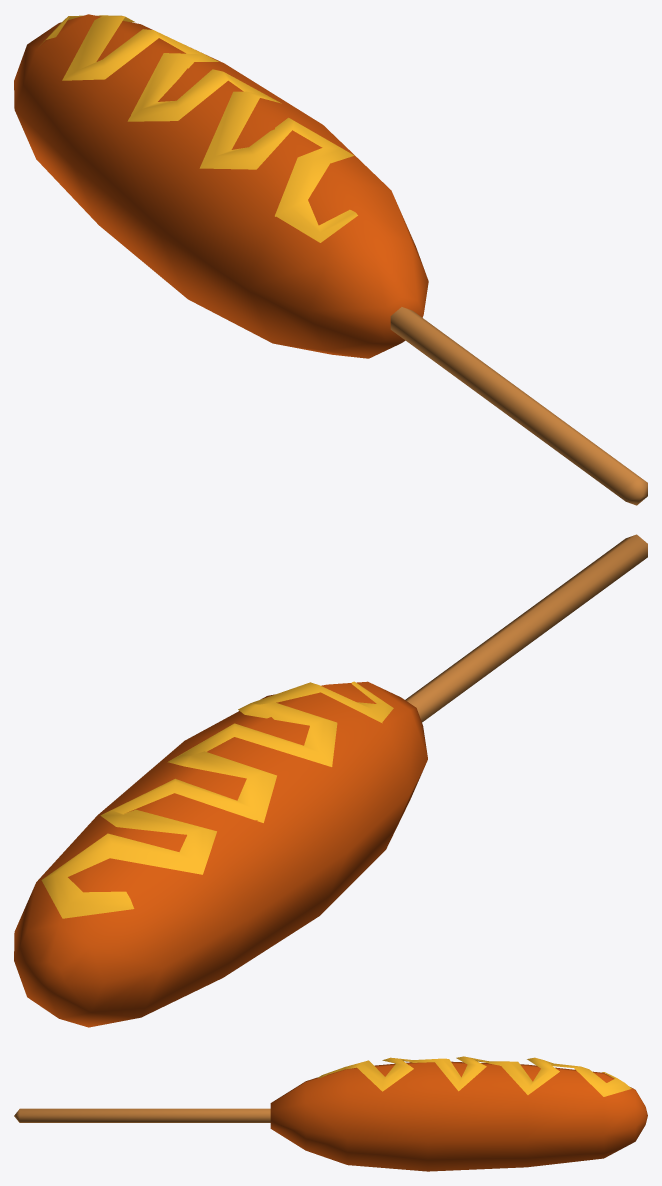
The model's file is SM_Prop_Corndog_A_01.obj.
The picture shows the model from 3 angles, top to bottom: view 1: azimuth 30°, elevation 25°; view 2: azimuth 150°, elevation 25°; view 3: azimuth 270°, elevation 25°; orthographic projection. The views are drawn at different scales.
Parts seen in each view (by area): view 1: SM_Prop_Corndog_A_01_Base-Color; view 2: SM_Prop_Corndog_A_01_Base-Color; view 3: SM_Prop_Corndog_A_01_Base-Color.
Boxes of the visible parts, x1,y1,x2,y2 form: SM_Prop_Corndog_A_01_Base-Color: [14, 14, 647, 505]; SM_Prop_Corndog_A_01_Base-Color: [14, 534, 647, 1027]; SM_Prop_Corndog_A_01_Base-Color: [14, 1056, 647, 1171].
Bounding box in the file's own units: 0.0886 × 0.093 × 0.4766.
1 material, 1 textured.
